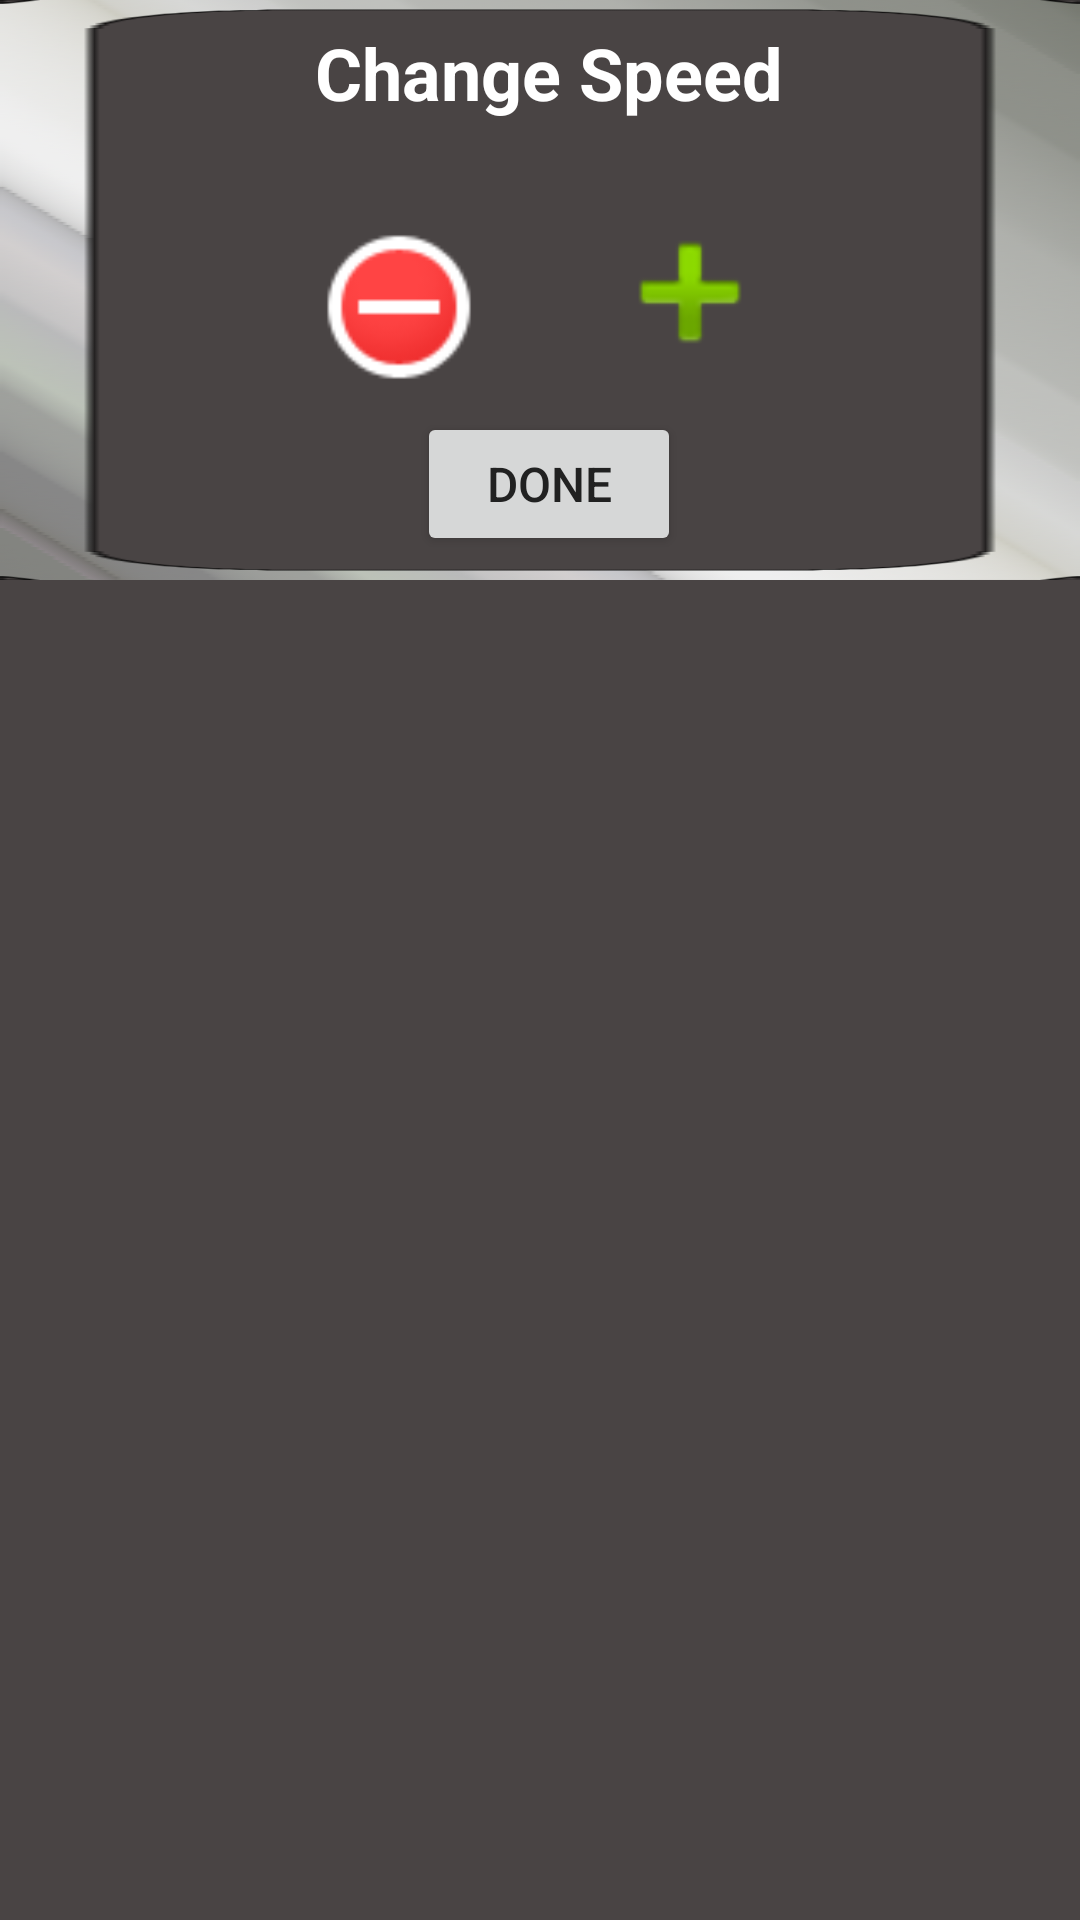

Screen size 1080 x 1920. Icon name, then its center in pixels as (x=x, y=y):
Minus image for lowing speed: (x=399, y=307)
Plus image for increasing Speed: (x=690, y=292)
